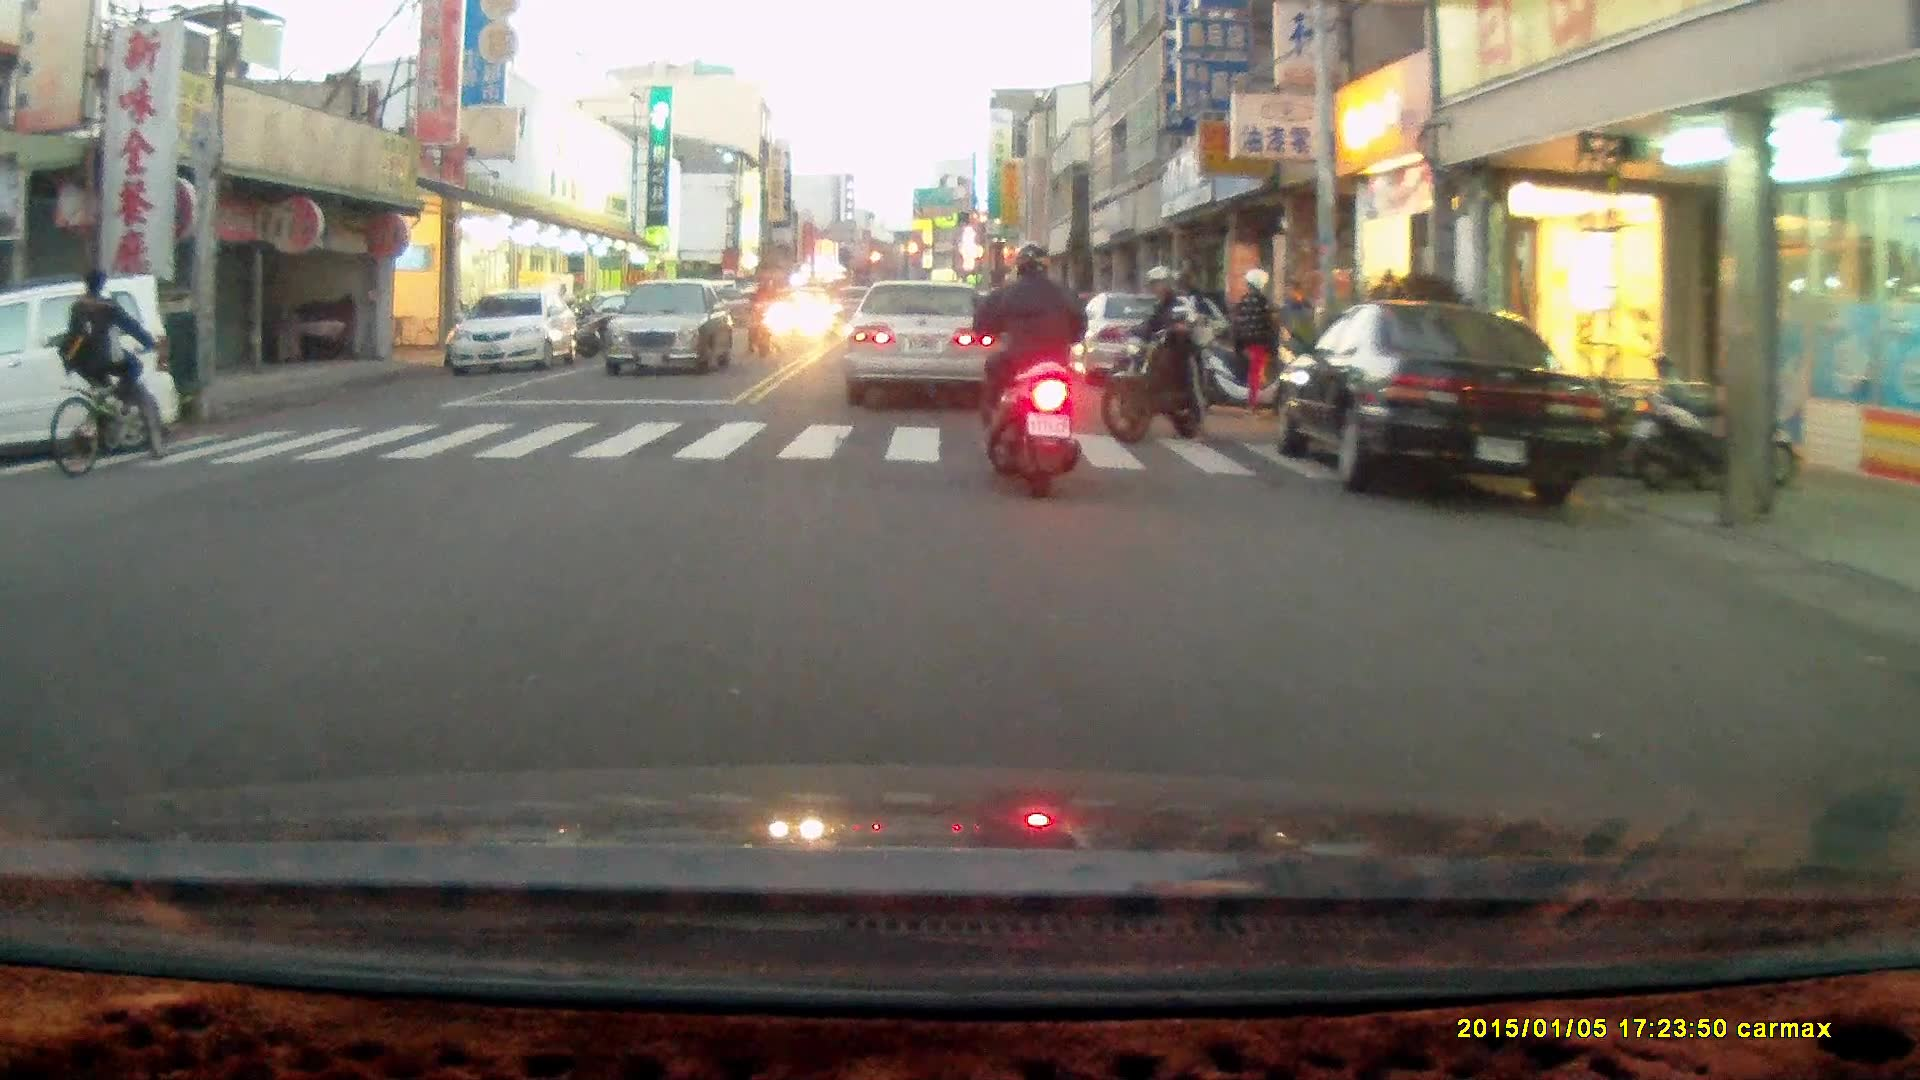pedestrian: (1236, 265, 1280, 419)
rider: (969, 239, 1091, 499), (42, 273, 159, 487), (1098, 262, 1231, 437), (742, 274, 784, 354)
vehicle: (1275, 302, 1604, 505), (1, 273, 188, 462), (851, 281, 1014, 409), (1071, 292, 1217, 392), (606, 279, 739, 380), (448, 290, 580, 374)
